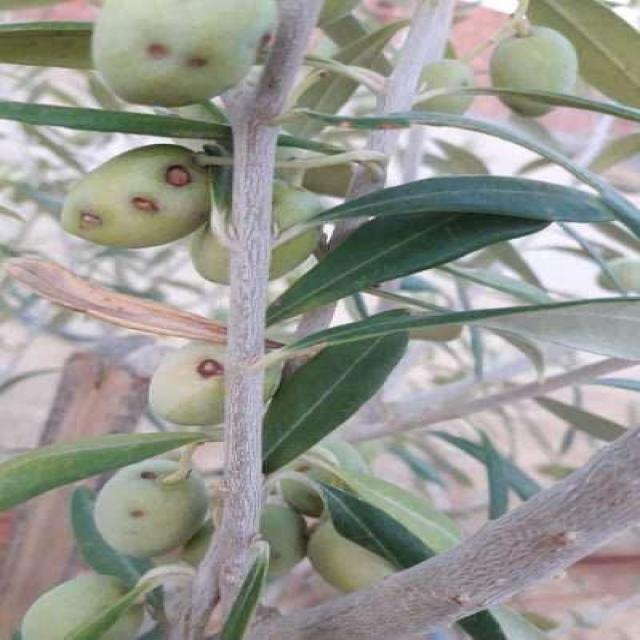Anthracnose: (93, 0, 277, 106), (60, 144, 210, 246), (92, 459, 206, 557)
